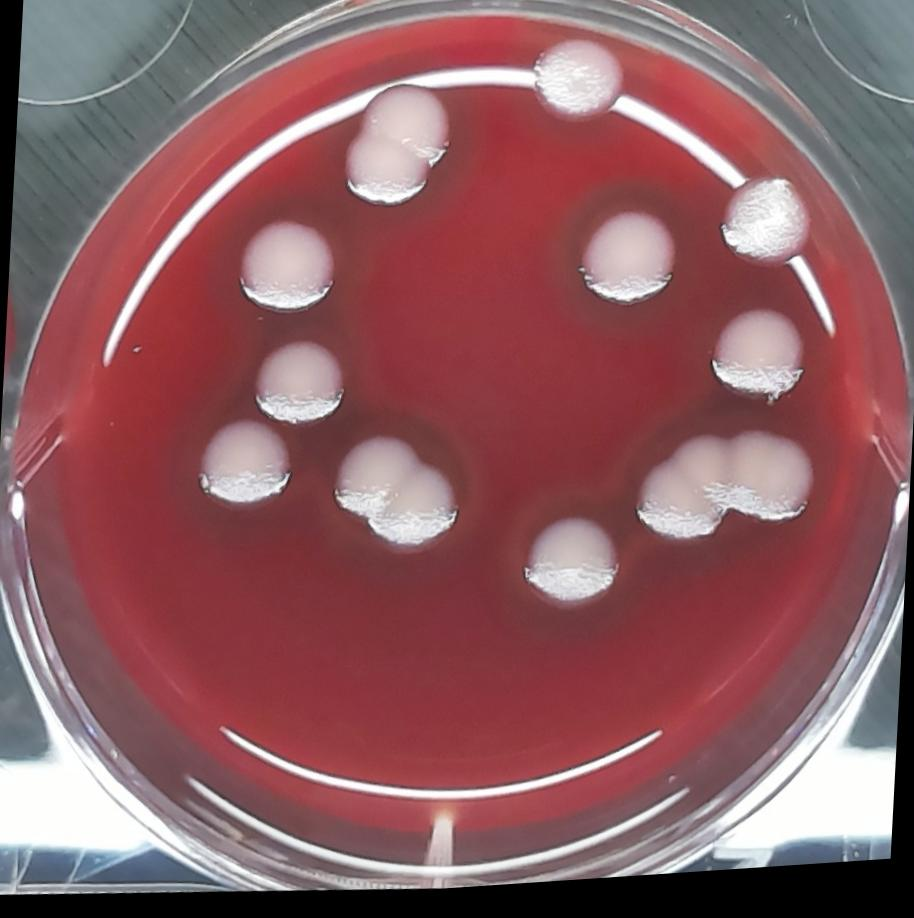bcereus: (628, 424, 820, 565), (322, 423, 471, 572), (342, 79, 465, 230), (515, 503, 632, 634), (232, 209, 346, 331), (572, 200, 684, 324), (702, 303, 818, 422), (712, 171, 820, 287), (192, 410, 298, 520), (527, 35, 633, 143), (246, 334, 351, 440)
